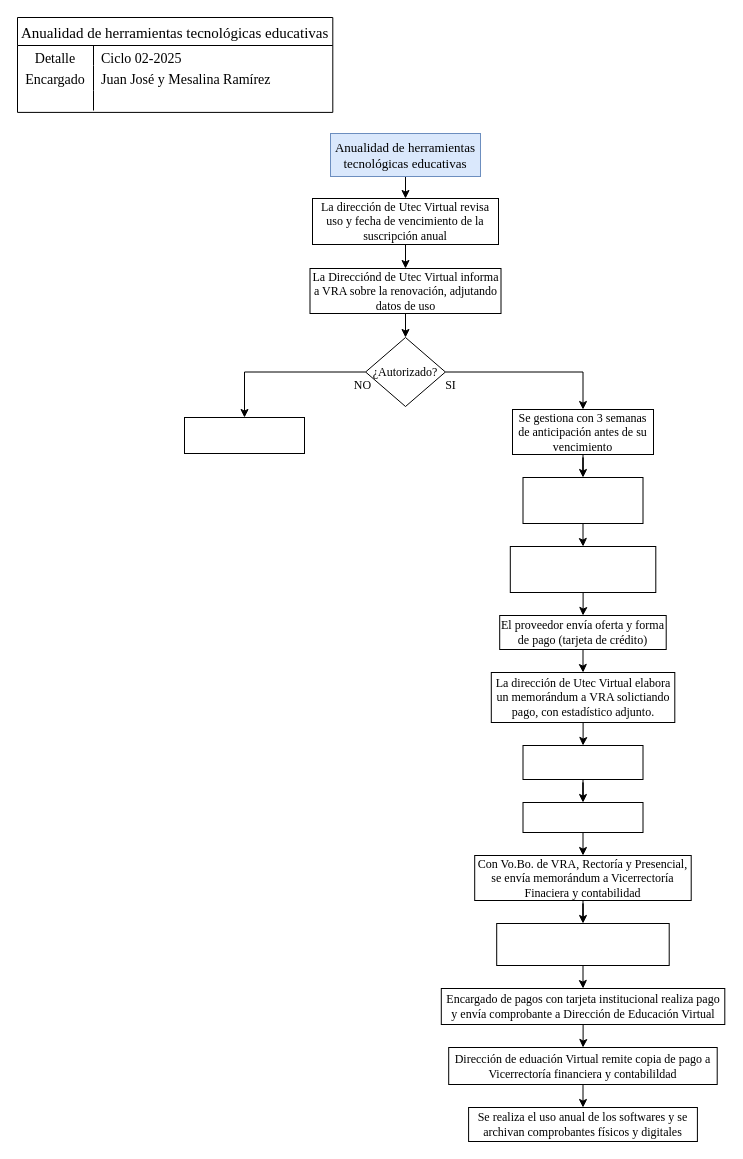
Image size: 743x1159. Some labels were removed from this diagram. Here are the shapes that lost their labels. From the top down, the centre of each, then its label:
At [244,435]: "Se notifica al proveedor y finaliza".
At [582,500]: "El área técnica verifica sitios Web de los softwares a renovar".
At [582,569]: "Un delegado del área técnica contacta al proveedor vía correo electrónico".
At [582,762]: "La VRA revisa y gestiona en Rectoría".
At [582,817]: "Rectoría gestiona en presidencia".
At [582,944]: "Vicerrectoría Financiera gestiona pago por medio de tarjeta desde Presidencia".
